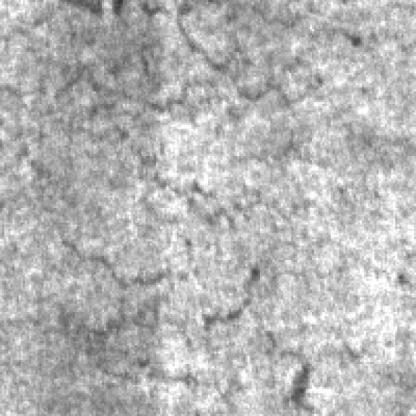crazing: (48, 239, 322, 416), (0, 7, 316, 148), (17, 137, 330, 250)
